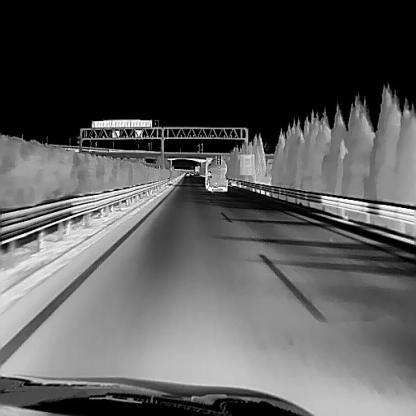car: (205, 155, 228, 191)
